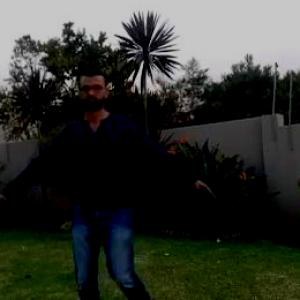land: (36, 97, 186, 281)
